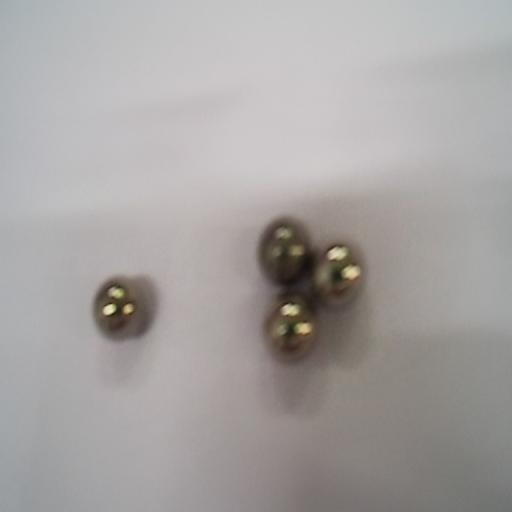steel-ball: (261, 295, 320, 363), (96, 272, 143, 354), (264, 215, 310, 287), (320, 240, 366, 305)
